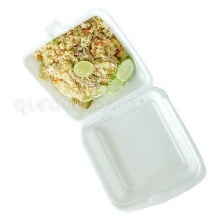foam_box: (15, 4, 209, 216)
